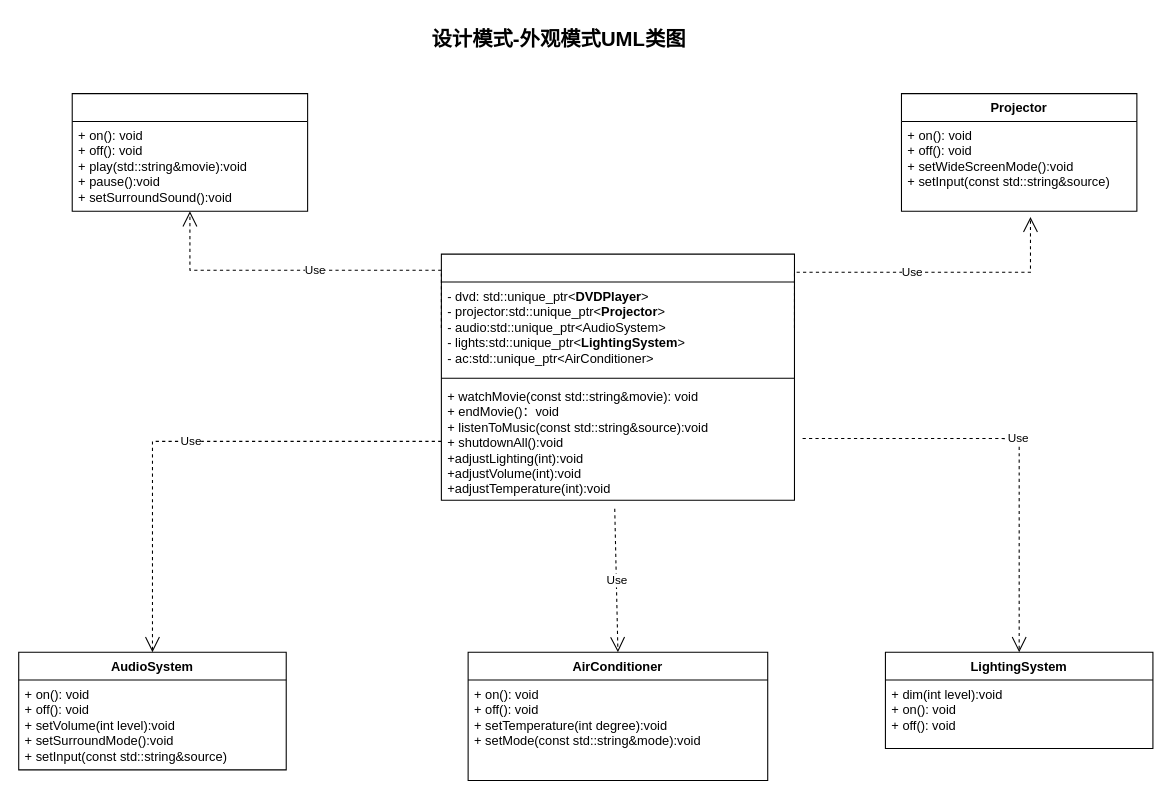
Some shapes in this 1172 by 801 pixel diagram are drawn without their labels. The shapes that lost their labels are listed below. From the top down, each one's box as (x1, y1, x2, y2) in pixels, then its label:
(71, 93, 308, 211): DVDPlayer
(440, 253, 794, 500): HomeTheaterFacade
